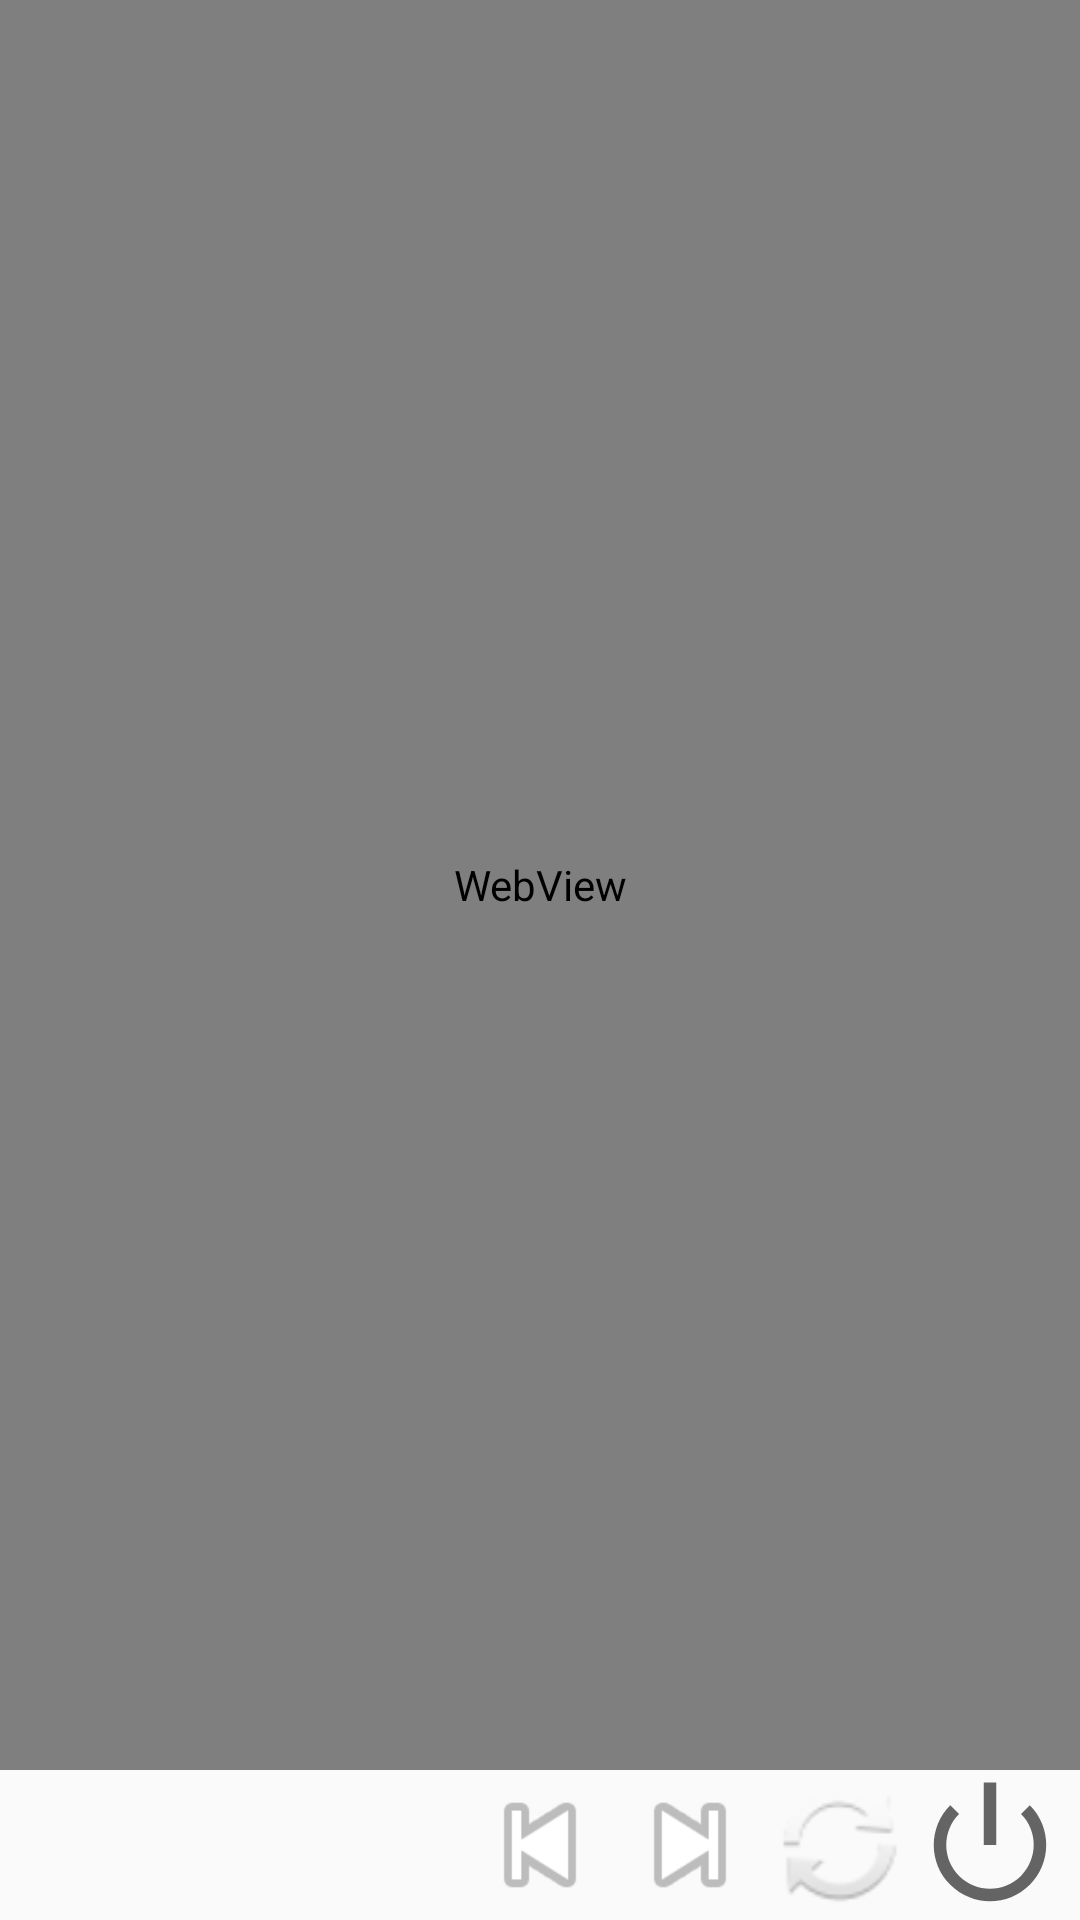

Locate icon controls on the screen. Image size 1080 × 1920, boxes as (x1, y1, x2, y2).
lock power off: (933, 1782, 1047, 1902)
next: (654, 1803, 726, 1887)
popup sync: (784, 1803, 893, 1901)
previous: (504, 1803, 576, 1887)
